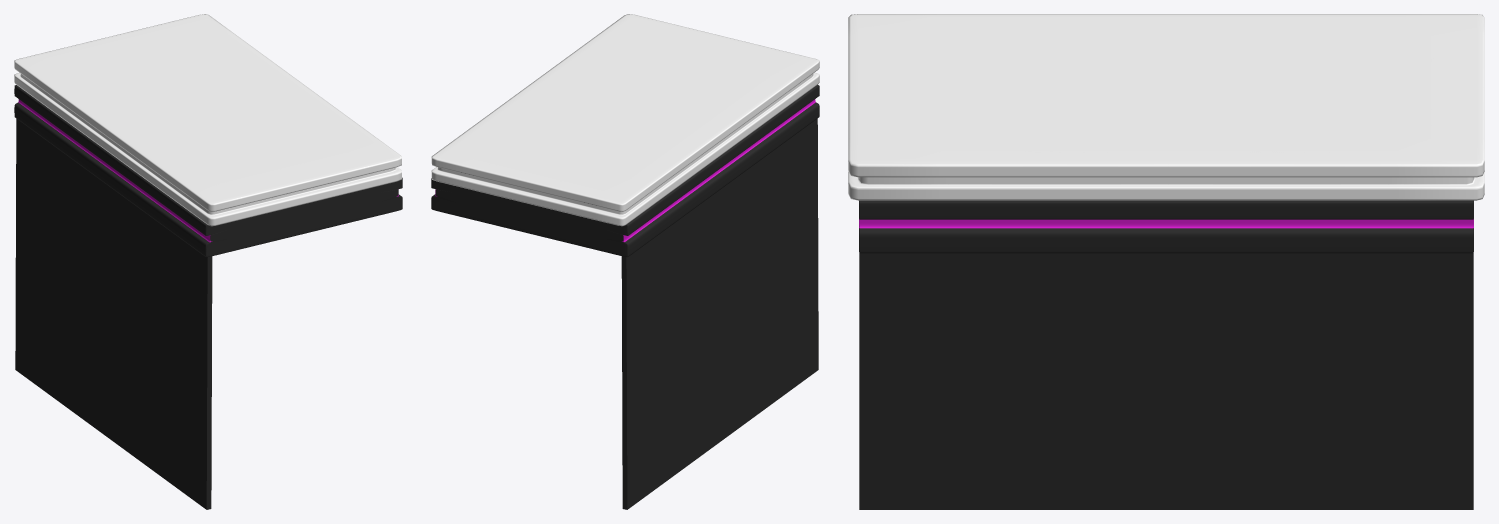
File: high poly bench 2.fbx
The picture shows the model from 3 angles, left to right: view 1: azimuth 30°, elevation 25°; view 2: azimuth 150°, elevation 25°; view 3: azimuth 270°, elevation 25°; orthographic projection. The views are drawn at different scales.
Visible parts, largest first — view 1: Box016; view 2: Box016; view 3: Box016.
Part boxes in pixels (left/top/right/bottom): Box016: left=14, top=14, right=402, bottom=509; Box016: left=431, top=14, right=819, bottom=509; Box016: left=848, top=14, right=1484, bottom=509.
Bounding box in the file's own units: 19.67 × 29.33 × 34.28.
